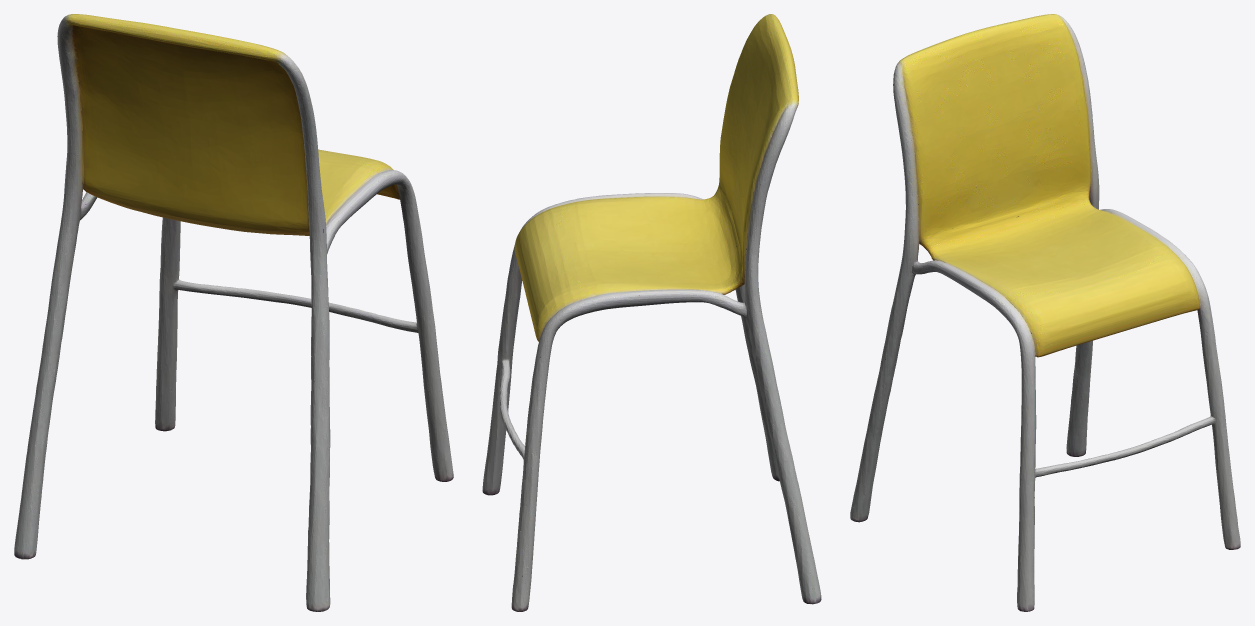
Rendered from light-colored_wooden_chair_at_far_right_table_000.glb.
3 views of the same model, side by side, from view 1: azimuth 30°, elevation 25°; view 2: azimuth 150°, elevation 25°; view 3: azimuth 270°, elevation 25° (orthographic). The views are drawn at different scales.
Visible parts, largest first — view 1: phase2_final_light-colored_wooden_chair_at_far_right_table_0; view 2: phase2_final_light-colored_wooden_chair_at_far_right_table_0; view 3: phase2_final_light-colored_wooden_chair_at_far_right_table_0.
Boxes of the visible parts, x1,y1,x2,y2 form: phase2_final_light-colored_wooden_chair_at_far_right_table_0: (14, 14, 453, 611); phase2_final_light-colored_wooden_chair_at_far_right_table_0: (482, 14, 821, 611); phase2_final_light-colored_wooden_chair_at_far_right_table_0: (850, 14, 1240, 611).
Size of the model in its own units: 0.2678 by 0.3451 by 0.2662.
Materials: 1 (1 with a texture image).
